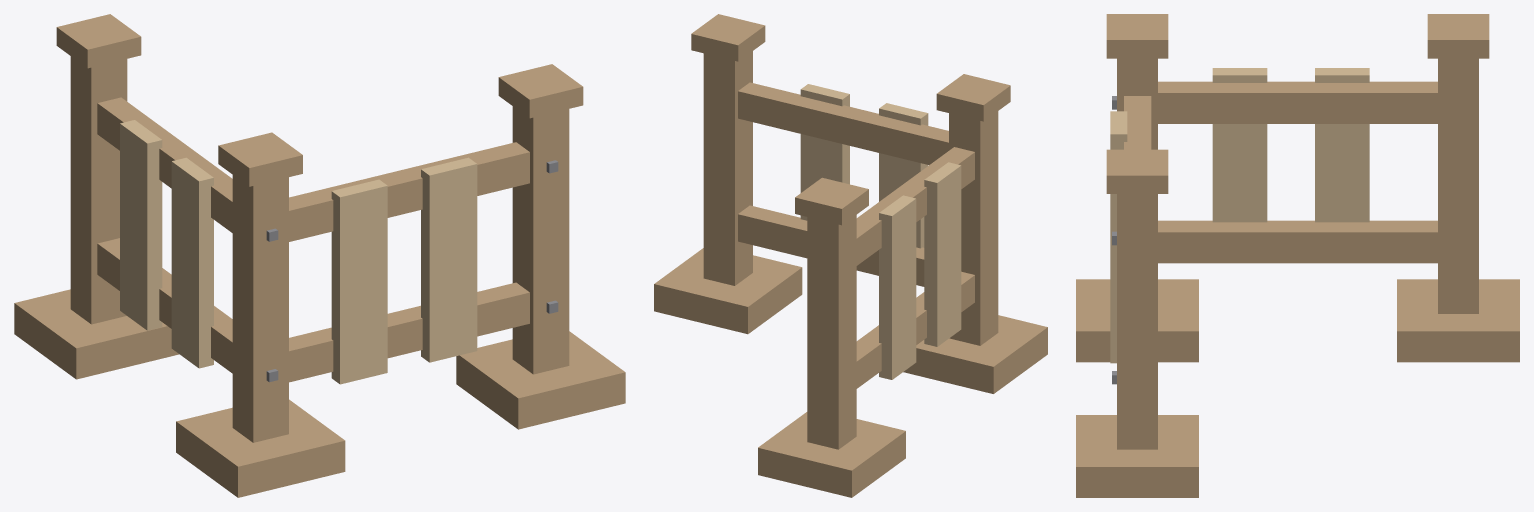
The model's file is 40-Infraestructura_valla_madera_esquina.glb.
The picture shows the model from 3 angles, left to right: view 1: azimuth 30°, elevation 25°; view 2: azimuth 150°, elevation 25°; view 3: azimuth 270°, elevation 25°; orthographic projection. The views are drawn at different scales.
Visible parts, largest first — view 1: SM_Valla_Basas_Postes_NOFUNDIR, SM_Valla_Tablas_NOFUNDIR, SM_Valla_Travesanos_NOFUNDIR, SM_Valla_Remates_NOFUNDIR; view 2: SM_Valla_Basas_Postes_NOFUNDIR, SM_Valla_Tablas_NOFUNDIR, SM_Valla_Travesanos_NOFUNDIR, SM_Valla_Remates_NOFUNDIR; view 3: SM_Valla_Basas_Postes_NOFUNDIR, SM_Valla_Travesanos_NOFUNDIR, SM_Valla_Tablas_NOFUNDIR, SM_Valla_Remates_NOFUNDIR.
Part boxes in pixels (bbox=[...]): SM_Valla_Basas_Postes_NOFUNDIR: bbox=[14, 56, 625, 497]; SM_Valla_Tablas_NOFUNDIR: bbox=[120, 120, 477, 384]; SM_Valla_Travesanos_NOFUNDIR: bbox=[97, 97, 529, 382]; SM_Valla_Remates_NOFUNDIR: bbox=[56, 14, 583, 186]; SM_Valla_Basas_Postes_NOFUNDIR: bbox=[654, 51, 1047, 497]; SM_Valla_Tablas_NOFUNDIR: bbox=[800, 84, 961, 379]; SM_Valla_Travesanos_NOFUNDIR: bbox=[738, 82, 974, 388]; SM_Valla_Remates_NOFUNDIR: bbox=[691, 14, 1010, 225]; SM_Valla_Basas_Postes_NOFUNDIR: bbox=[1076, 58, 1519, 497]; SM_Valla_Travesanos_NOFUNDIR: bbox=[1124, 81, 1437, 263]; SM_Valla_Tablas_NOFUNDIR: bbox=[1110, 68, 1369, 363]; SM_Valla_Remates_NOFUNDIR: bbox=[1106, 14, 1489, 193].
Size of the model in its own units: 1.3 by 1 by 1.3.
